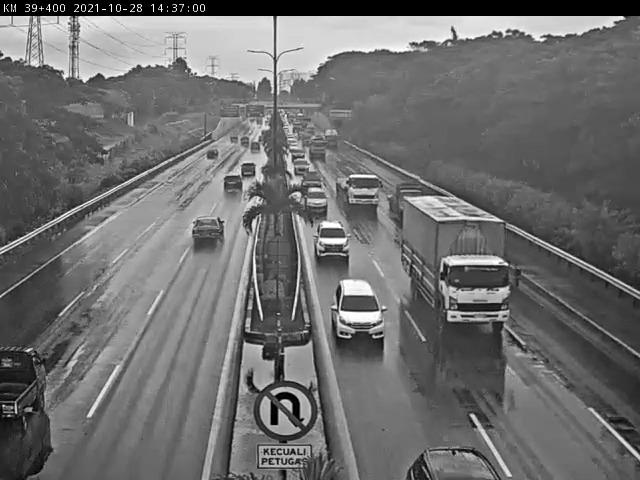big truck: (419, 218, 523, 331), (342, 167, 375, 211)
car: (333, 264, 382, 342), (181, 217, 230, 254), (313, 210, 344, 256), (296, 178, 331, 207), (213, 172, 243, 204)
